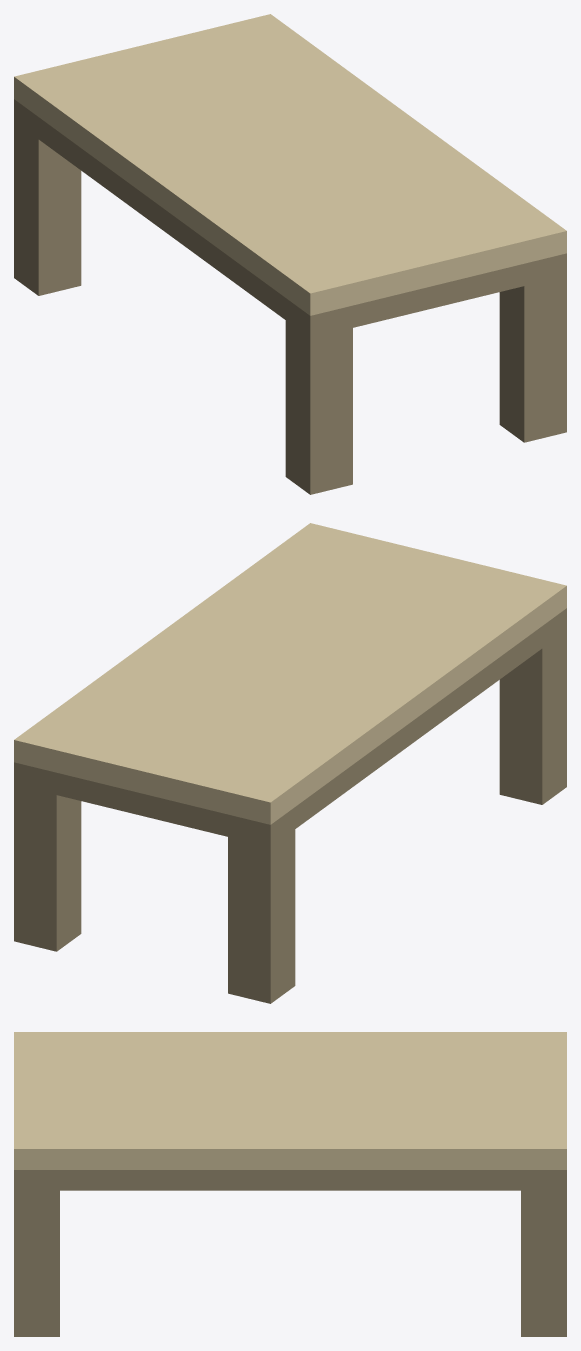
Rendered from bancada_cultivo_arenisca_01.glb.
3 views of the same model, one above another, from view 1: azimuth 30°, elevation 25°; view 2: azimuth 150°, elevation 25°; view 3: azimuth 270°, elevation 25° (orthographic). The views are drawn at different scales.
Parts seen in each view (by area): view 1: bancada_cultivo_arenisca; view 2: bancada_cultivo_arenisca; view 3: bancada_cultivo_arenisca.
Part boxes in pixels (left/top/right/bottom): bancada_cultivo_arenisca: left=14, top=14, right=566, bottom=494; bancada_cultivo_arenisca: left=14, top=523, right=566, bottom=1003; bancada_cultivo_arenisca: left=14, top=1032, right=566, bottom=1336.
Bounding box in the file's own units: 1 × 0.75 × 2.
